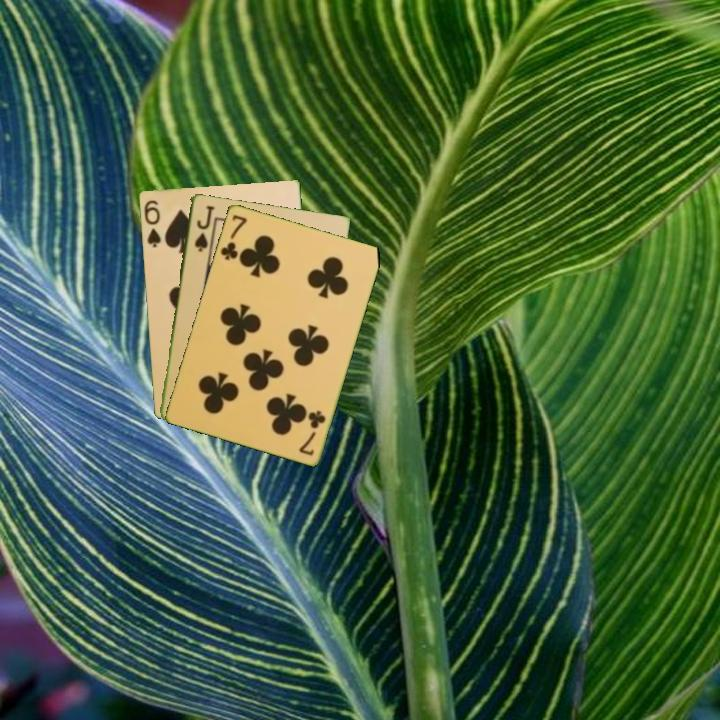6s: (140, 196, 164, 250)
7c: (217, 211, 250, 263), (295, 406, 328, 458)
Js: (191, 202, 215, 254)
